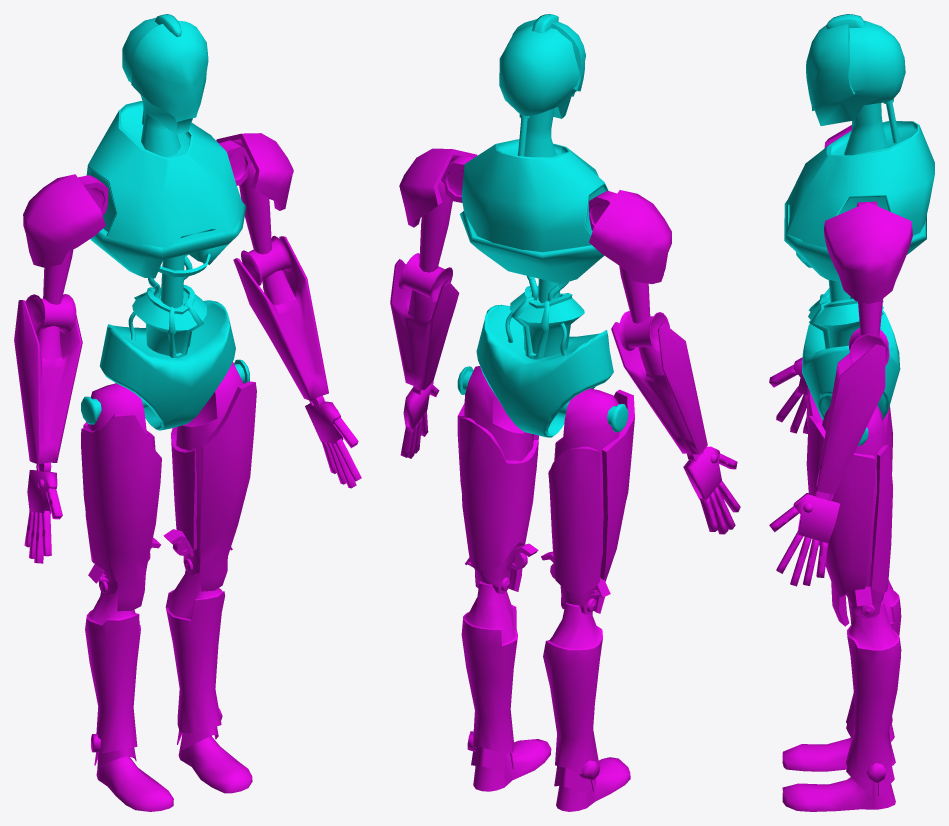
File: Robot_low.fbx
The picture shows the model from 3 angles, left to right: view 1: azimuth 30°, elevation 25°; view 2: azimuth 150°, elevation 25°; view 3: azimuth 270°, elevation 25°; orthographic projection.
Visible parts, largest first — view 1: P_MARMOURF_low, T_PETO_low, B_ANTEBRAZO_low, P_CHAMORRO_low, T_PELVIS_low, HOMBRO_low, C_FRENTE_low, P_PIE_low, P_MUSLO_low, T_PECHO_low, B_CODO_low, B_BI_TR_low (+13 smaller); view 2: p_MARMOURB_low, P_CHAMORRO_low, T_PETO_low, B_ANTEBRAZO_low, T_PELVIS_low, HOMBRO_low, P_MUSLO_low, C_MANDIBULA_low, P_MARMOURF_low, P_PIE_low, T_PECHO_low, B_BI_TR_low (+10 smaller); view 3: T_PETO_low, P_CHAMORRO_low, P_MARMOURF_low, HOMBRO_low, B_ANTEBRAZO_low, C_MANDIBULA_low, P_PIE_low, T_PELVIS_low, C_FRENTE_low, p_MARMOURB_low, B_PALMA_low, P_MUSLO_low (+14 smaller).
Part boxes in pixels (box(x1,y1,x2,y2)): P_MARMOURF_low: box(81, 381, 256, 611); T_PETO_low: box(86, 101, 242, 249); B_ANTEBRAZO_low: box(14, 236, 328, 464); P_CHAMORRO_low: box(85, 570, 225, 752); T_PELVIS_low: box(100, 300, 235, 430); HOMBRO_low: box(23, 133, 293, 267); C_FRENTE_low: box(131, 20, 208, 121); P_PIE_low: box(96, 732, 252, 811); P_MUSLO_low: box(87, 362, 243, 596); T_PECHO_low: box(90, 202, 246, 278); B_CODO_low: box(26, 235, 291, 333); B_BI_TR_low: box(43, 162, 271, 304); p_MARMOURB_low: box(460, 417, 602, 594); P_CHAMORRO_low: box(461, 581, 602, 774); T_PETO_low: box(461, 139, 608, 252); B_ANTEBRAZO_low: box(390, 259, 707, 454); T_PELVIS_low: box(476, 304, 613, 437); HOMBRO_low: box(399, 148, 671, 283); P_MUSLO_low: box(464, 366, 619, 614); C_MANDIBULA_low: box(499, 25, 579, 118); P_MARMOURF_low: box(457, 389, 634, 613); P_PIE_low: box(473, 739, 630, 811); T_PECHO_low: box(459, 211, 604, 283); B_BI_TR_low: box(419, 180, 650, 323); T_PETO_low: box(786, 121, 934, 247); P_CHAMORRO_low: box(846, 580, 901, 778); P_MARMOURF_low: box(806, 387, 875, 626); HOMBRO_low: box(824, 125, 912, 303); B_ANTEBRAZO_low: box(816, 344, 885, 494); C_MANDIBULA_low: box(814, 20, 905, 125); P_PIE_low: box(782, 737, 895, 811); T_PELVIS_low: box(802, 310, 900, 420); C_FRENTE_low: box(806, 24, 855, 110); p_MARMOURB_low: box(870, 405, 892, 593); B_PALMA_low: box(793, 357, 839, 543); P_MUSLO_low: box(822, 405, 886, 618).
Size of the model in its own units: 6.27 by 14.26 by 2.79.
